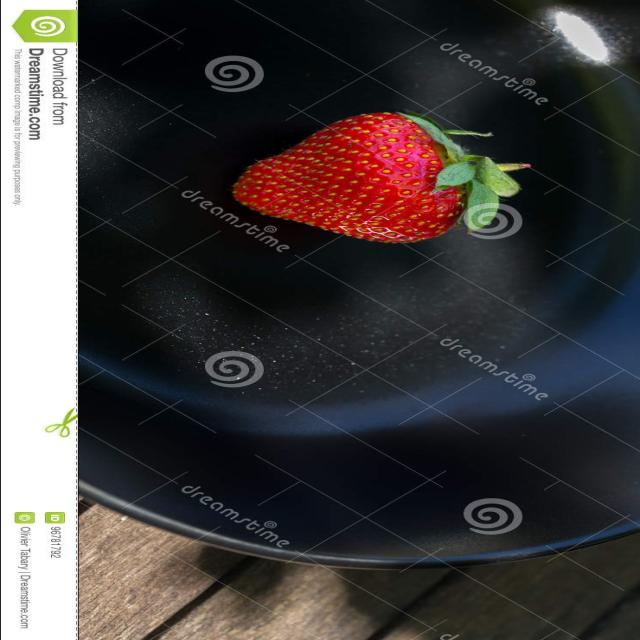strawberry: (203, 90, 578, 253)
